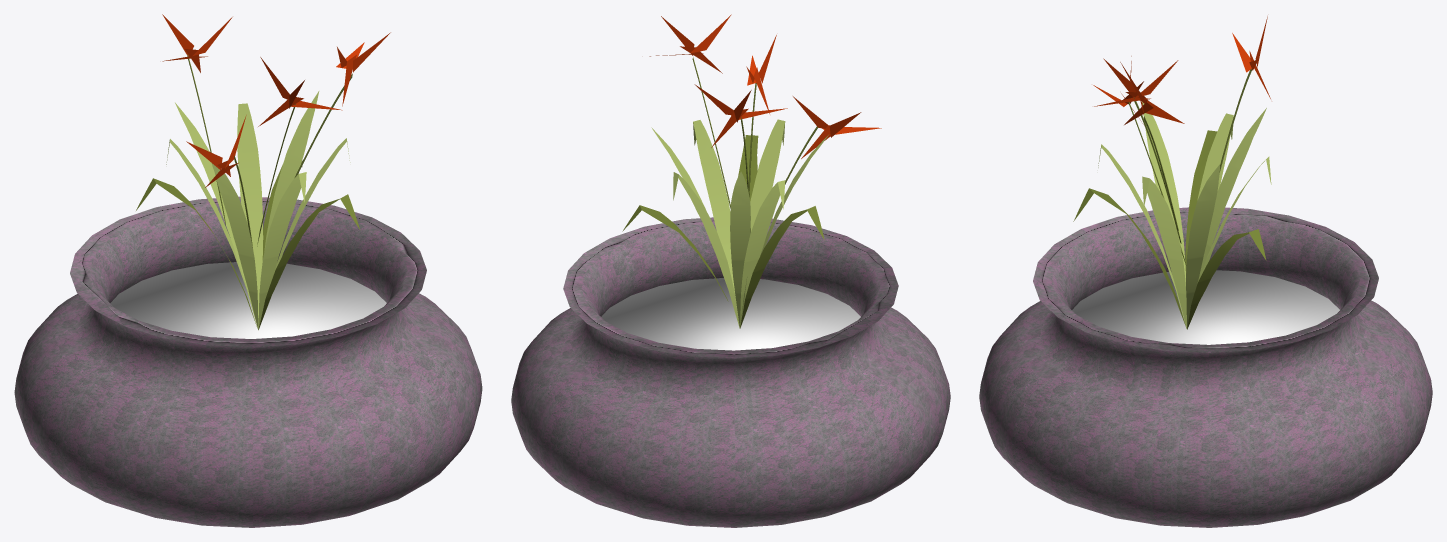
3 renders of one model, left to right at view 1: azimuth 30°, elevation 25°; view 2: azimuth 150°, elevation 25°; view 3: azimuth 270°, elevation 25°, orthographic. The views are drawn at different scales.
Parts seen in each view (by area): view 1: Mesh31 Model, Mesh29 Lg_Broken_Leaf3 V_Plant_Bird_of_Paradise1 Model, Mesh27 Lg_Broken_Leaf1 V_Plant_Bird_of_Paradise1 Model, Mesh21 Lg_Leaf1 V_Plant_Bird_of_Paradise1 Model, Mesh23 Lg_Leaf3 V_Plant_Bird_of_Paradise1 Model, Mesh24 Lg_Bent_Leaf1 V_Plant_Bird_of_Paradise1 Model, Mesh22 Lg_Leaf2 V_Plant_Bird_of_Paradise1 Model, Mesh28 Lg_Broken_Leaf2 V_Plant_Bird_of_Paradise1 Model, Mesh30 Lg_Broken_Leaf4 V_Plant_Bird_of_Paradise1 Model, Mesh25 Lg_Bent_Leaf2 V_Plant_Bird_of_Paradise1 Model; view 2: Mesh31 Model, Mesh30 Lg_Broken_Leaf4 V_Plant_Bird_of_Paradise1 Model, Mesh22 Lg_Leaf2 V_Plant_Bird_of_Paradise1 Model, Mesh28 Lg_Broken_Leaf2 V_Plant_Bird_of_Paradise1 Model, Mesh27 Lg_Broken_Leaf1 V_Plant_Bird_of_Paradise1 Model, Mesh29 Lg_Broken_Leaf3 V_Plant_Bird_of_Paradise1 Model, Mesh25 Lg_Bent_Leaf2 V_Plant_Bird_of_Paradise1 Model, Mesh24 Lg_Bent_Leaf1 V_Plant_Bird_of_Paradise1 Model, Mesh26 Lg_Bent_Leaf3 V_Plant_Bird_of_Paradise1 Model; view 3: Mesh31 Model, Mesh23 Lg_Leaf3 V_Plant_Bird_of_Paradise1 Model, Mesh30 Lg_Broken_Leaf4 V_Plant_Bird_of_Paradise1 Model, Mesh21 Lg_Leaf1 V_Plant_Bird_of_Paradise1 Model, Mesh22 Lg_Leaf2 V_Plant_Bird_of_Paradise1 Model, Mesh26 Lg_Bent_Leaf3 V_Plant_Bird_of_Paradise1 Model, Mesh28 Lg_Broken_Leaf2 V_Plant_Bird_of_Paradise1 Model, Mesh25 Lg_Bent_Leaf2 V_Plant_Bird_of_Paradise1 Model, Mesh27 Lg_Broken_Leaf1 V_Plant_Bird_of_Paradise1 Model, Mesh24 Lg_Bent_Leaf1 V_Plant_Bird_of_Paradise1 Model.
Boxes of the visible parts, bbox=[...] form: Mesh31 Model: bbox=[14, 196, 482, 527]; Mesh29 Lg_Broken_Leaf3 V_Plant_Bird_of_Paradise1 Model: bbox=[237, 103, 263, 327]; Mesh27 Lg_Broken_Leaf1 V_Plant_Bird_of_Paradise1 Model: bbox=[258, 172, 306, 330]; Mesh21 Lg_Leaf1 V_Plant_Bird_of_Paradise1 Model: bbox=[211, 163, 258, 329]; Mesh23 Lg_Leaf3 V_Plant_Bird_of_Paradise1 Model: bbox=[264, 91, 319, 251]; Mesh24 Lg_Bent_Leaf1 V_Plant_Bird_of_Paradise1 Model: bbox=[258, 194, 359, 329]; Mesh22 Lg_Leaf2 V_Plant_Bird_of_Paradise1 Model: bbox=[175, 102, 256, 323]; Mesh28 Lg_Broken_Leaf2 V_Plant_Bird_of_Paradise1 Model: bbox=[166, 139, 256, 322]; Mesh30 Lg_Broken_Leaf4 V_Plant_Bird_of_Paradise1 Model: bbox=[274, 138, 350, 273]; Mesh25 Lg_Bent_Leaf2 V_Plant_Bird_of_Paradise1 Model: bbox=[136, 178, 256, 326]; Mesh31 Model: bbox=[511, 217, 950, 527]; Mesh30 Lg_Broken_Leaf4 V_Plant_Bird_of_Paradise1 Model: bbox=[693, 120, 737, 313]; Mesh22 Lg_Leaf2 V_Plant_Bird_of_Paradise1 Model: bbox=[730, 171, 750, 327]; Mesh28 Lg_Broken_Leaf2 V_Plant_Bird_of_Paradise1 Model: bbox=[740, 180, 785, 327]; Mesh27 Lg_Broken_Leaf1 V_Plant_Bird_of_Paradise1 Model: bbox=[750, 119, 785, 231]; Mesh29 Lg_Broken_Leaf3 V_Plant_Bird_of_Paradise1 Model: bbox=[673, 172, 739, 328]; Mesh25 Lg_Bent_Leaf2 V_Plant_Bird_of_Paradise1 Model: bbox=[740, 206, 824, 328]; Mesh24 Lg_Bent_Leaf1 V_Plant_Bird_of_Paradise1 Model: bbox=[738, 135, 758, 201]; Mesh26 Lg_Bent_Leaf3 V_Plant_Bird_of_Paradise1 Model: bbox=[622, 205, 728, 301]; Mesh31 Model: bbox=[979, 207, 1432, 527]; Mesh23 Lg_Leaf3 V_Plant_Bird_of_Paradise1 Model: bbox=[1186, 164, 1219, 329]; Mesh30 Lg_Broken_Leaf4 V_Plant_Bird_of_Paradise1 Model: bbox=[1142, 176, 1186, 328]; Mesh21 Lg_Leaf1 V_Plant_Bird_of_Paradise1 Model: bbox=[1142, 102, 1185, 285]; Mesh22 Lg_Leaf2 V_Plant_Bird_of_Paradise1 Model: bbox=[1197, 108, 1266, 282]; Mesh26 Lg_Bent_Leaf3 V_Plant_Bird_of_Paradise1 Model: bbox=[1187, 229, 1266, 328]; Mesh28 Lg_Broken_Leaf2 V_Plant_Bird_of_Paradise1 Model: bbox=[1197, 113, 1233, 199]; Mesh25 Lg_Bent_Leaf2 V_Plant_Bird_of_Paradise1 Model: bbox=[1185, 130, 1217, 272]; Mesh27 Lg_Broken_Leaf1 V_Plant_Bird_of_Paradise1 Model: bbox=[1098, 144, 1184, 321]; Mesh24 Lg_Bent_Leaf1 V_Plant_Bird_of_Paradise1 Model: bbox=[1073, 188, 1186, 328].
Size of the model in its own units: 243 by 245 by 243.
